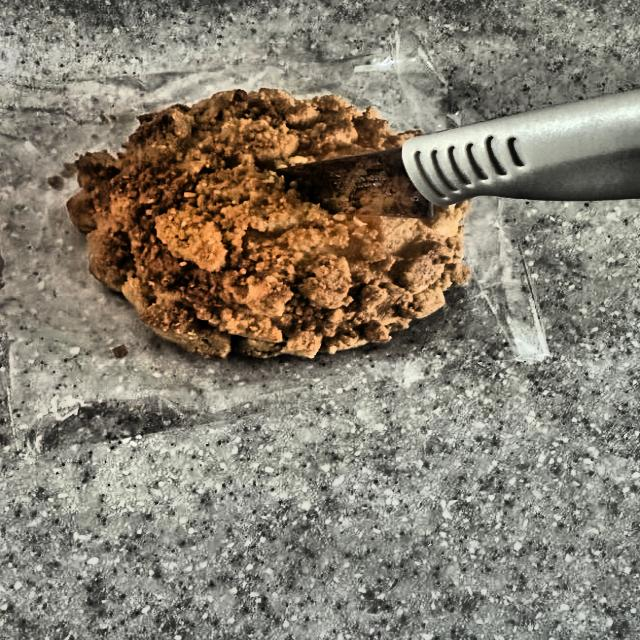knife: (282, 74, 640, 226)
